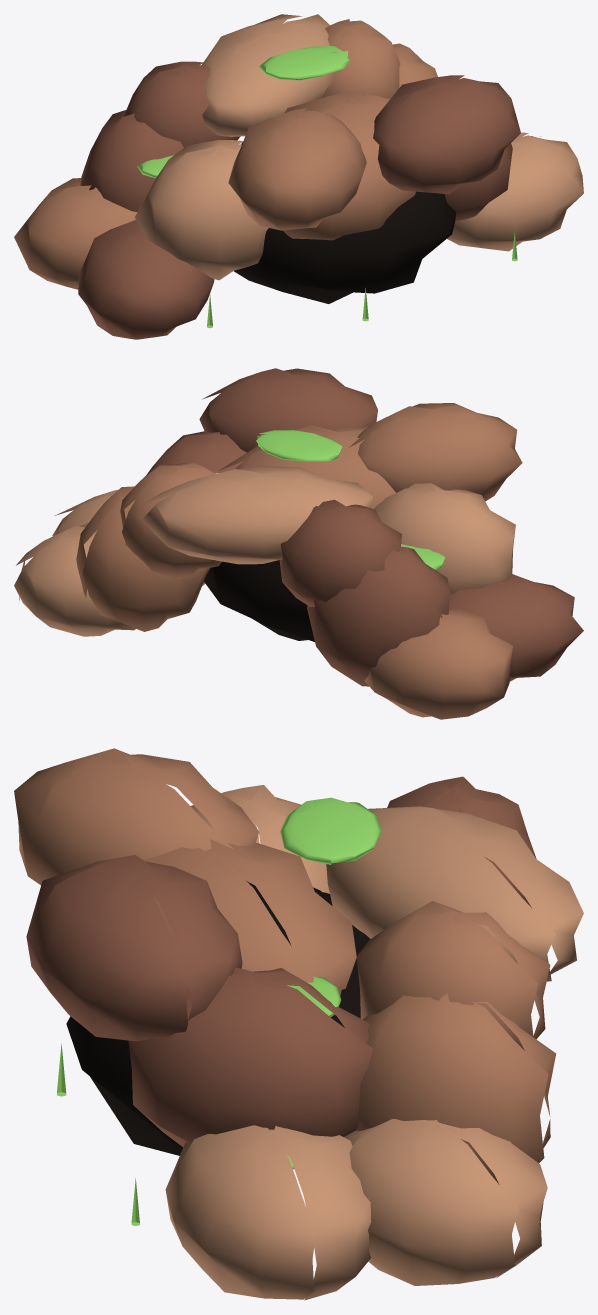
The model's file is rainyard-monitor-hide.glb.
The picture shows the model from 3 angles, top to bottom: view 1: azimuth 30°, elevation 25°; view 2: azimuth 150°, elevation 25°; view 3: azimuth 270°, elevation 25°; orthographic projection. The views are drawn at different scales.
Visible parts, largest first — view 1: Dark clay stone (×5), Warm clay stone (×5), Light clay stone (×3), Hide interior, Wet moss; view 2: Warm clay stone (×5), Dark clay stone (×5), Light clay stone (×4), Hide interior, Wet moss; view 3: Light clay stone (×4), Warm clay stone (×4), Dark clay stone (×3), Hide interior, Wet moss (×2).
Part boxes in pixels (x1,y1,x2,y2): Dark clay stone (×5): (78, 61, 520, 339); Warm clay stone (×5): (14, 19, 437, 289); Light clay stone (×3): (134, 14, 583, 280); Hide interior: (234, 142, 456, 303); Wet moss: (259, 46, 350, 80); Warm clay stone (×5): (76, 403, 522, 719); Dark clay stone (×5): (146, 368, 583, 686); Light clay stone (×4): (14, 465, 515, 636); Hide interior: (204, 560, 314, 641); Wet moss: (256, 429, 342, 461); Light clay stone (×4): (165, 785, 583, 1300); Warm clay stone (×4): (14, 748, 556, 1184); Dark clay stone (×3): (26, 776, 536, 1146); Hide interior: (66, 883, 370, 1155); Wet moss (×2): (280, 797, 381, 1017).
Bounding box in the file's own units: 2.66 × 1.09 × 1.69.
